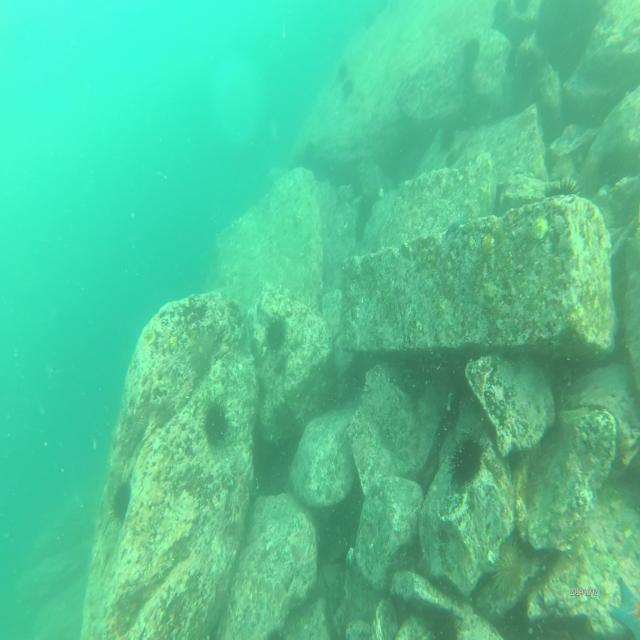echinus: (446, 427, 484, 490), (490, 532, 525, 595), (262, 306, 288, 360), (202, 398, 230, 448), (545, 176, 584, 208), (110, 474, 133, 522), (460, 32, 483, 68), (439, 118, 457, 157), (493, 0, 511, 30), (341, 75, 358, 105), (299, 139, 315, 170), (515, 0, 531, 17), (336, 62, 348, 81)
starfish: (610, 575, 640, 640)
